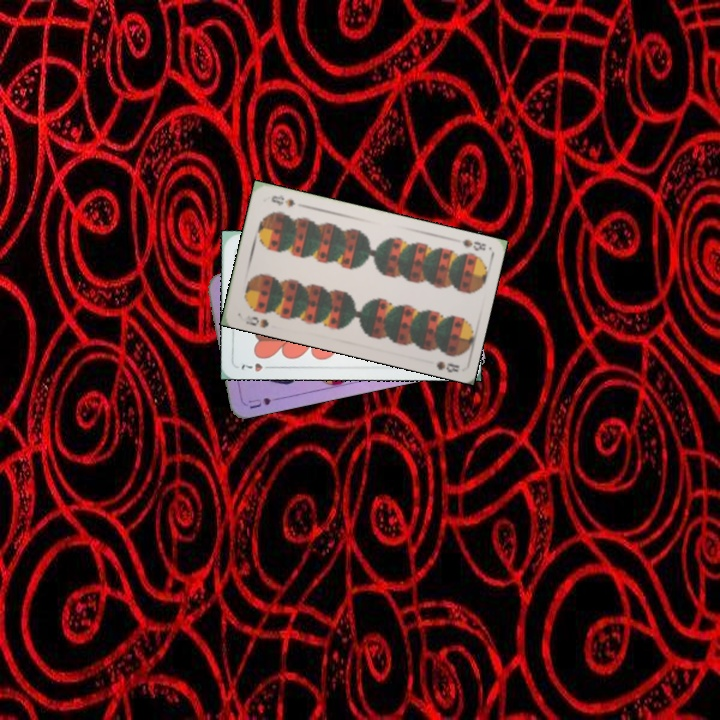H7: (238, 359, 276, 374)
S8: (237, 311, 271, 330), (458, 235, 489, 254)
SU: (244, 393, 285, 411)
